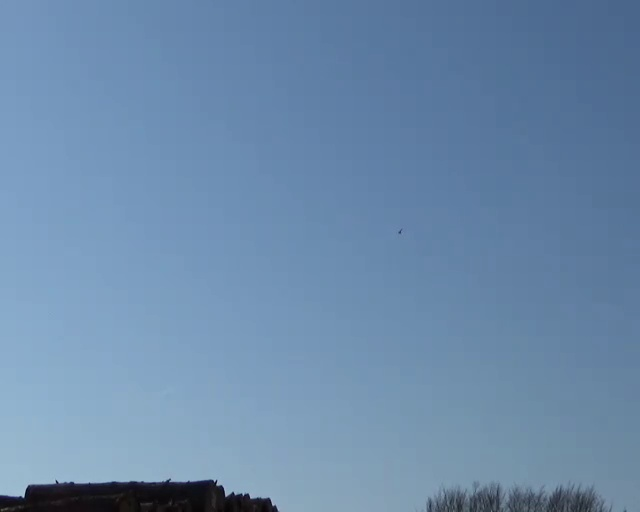BIRD: (395, 231, 403, 242)
